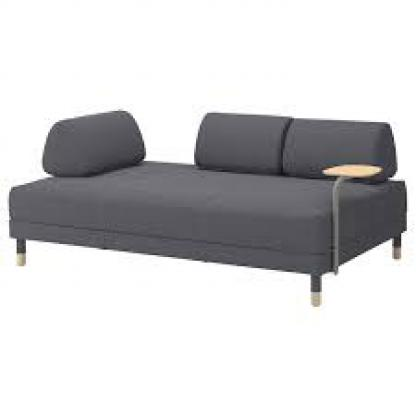sofa: (13, 104, 409, 312)
